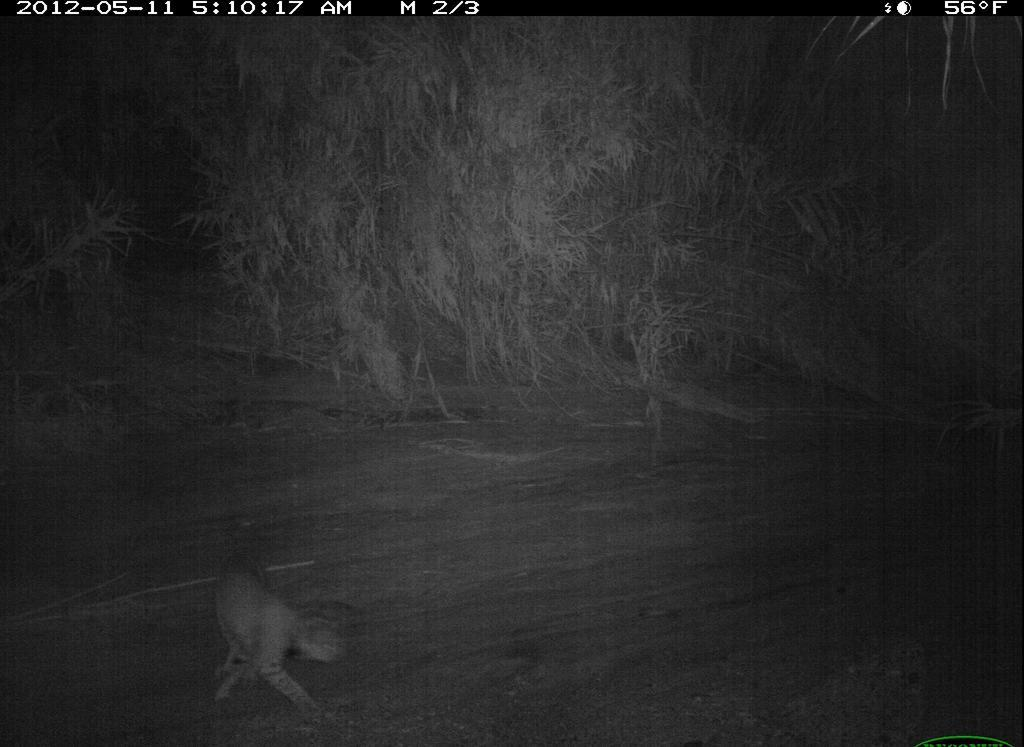bobcat: (180, 537, 368, 728)
